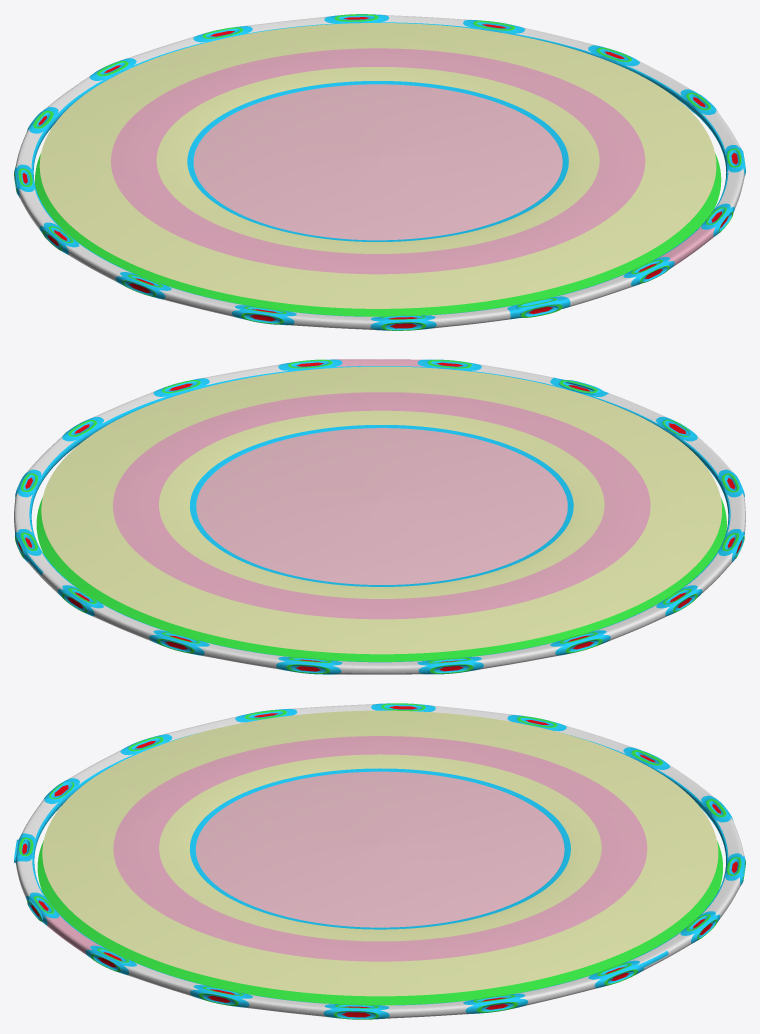
Rendered from myUfo.fbx.
3 views of the same model, one above another, from view 1: azimuth 30°, elevation 25°; view 2: azimuth 150°, elevation 25°; view 3: azimuth 270°, elevation 25° (orthographic).
Parts seen in each view (by area): view 1: Torus, Sphere; view 2: Torus, Sphere; view 3: Torus, Sphere.
Part boxes in pixels (left/top/right/bottom): Torus: left=14, top=14, right=745, bottom=330; Sphere: left=193, top=84, right=562, bottom=240; Torus: left=14, top=359, right=745, bottom=674; Sphere: left=196, top=428, right=567, bottom=584; Torus: left=14, top=703, right=745, bottom=1019; Sphere: left=195, top=771, right=564, bottom=927.
Size of the model in its own units: 668 by 67.56 by 669.
